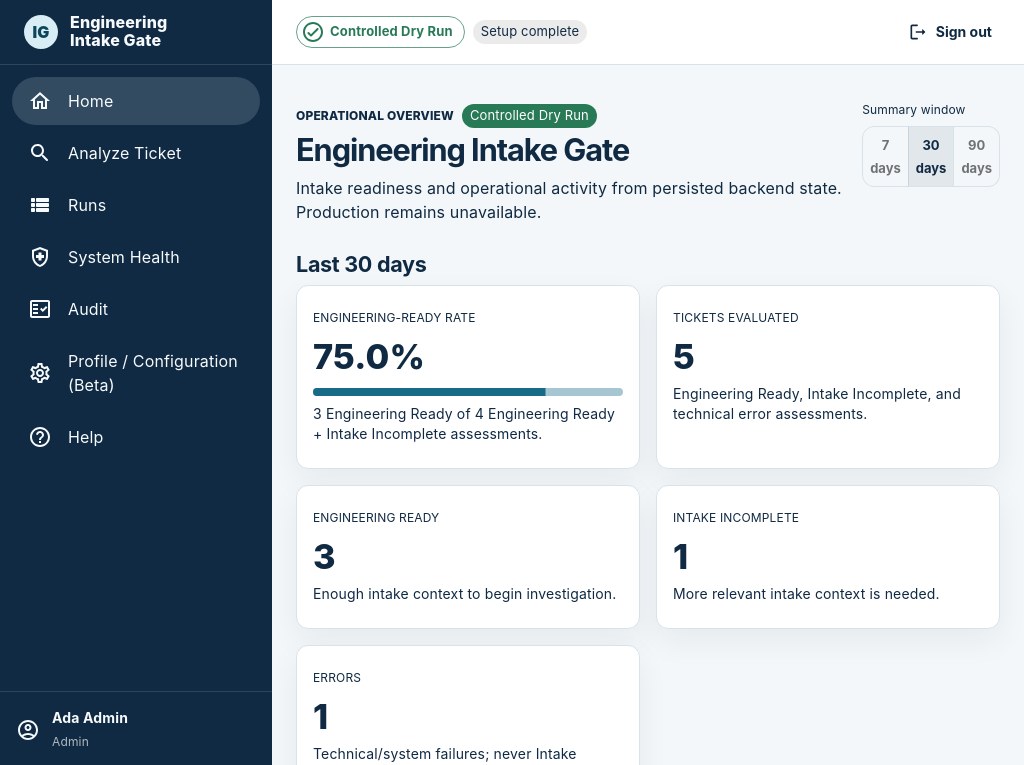
it: HOME-UI-002 switches only among the 7, 30, and 90 day server summaries
The width and height of the screenshot is (1024, 765).
Expected: the heading "Last 30 days" is shown, x1=296 y1=251 x2=426 y2=277
Click the button with aria-label "Last 7 days" at {"x": 885, "y": 157}, box x1=862 y1=126 x2=909 y2=187
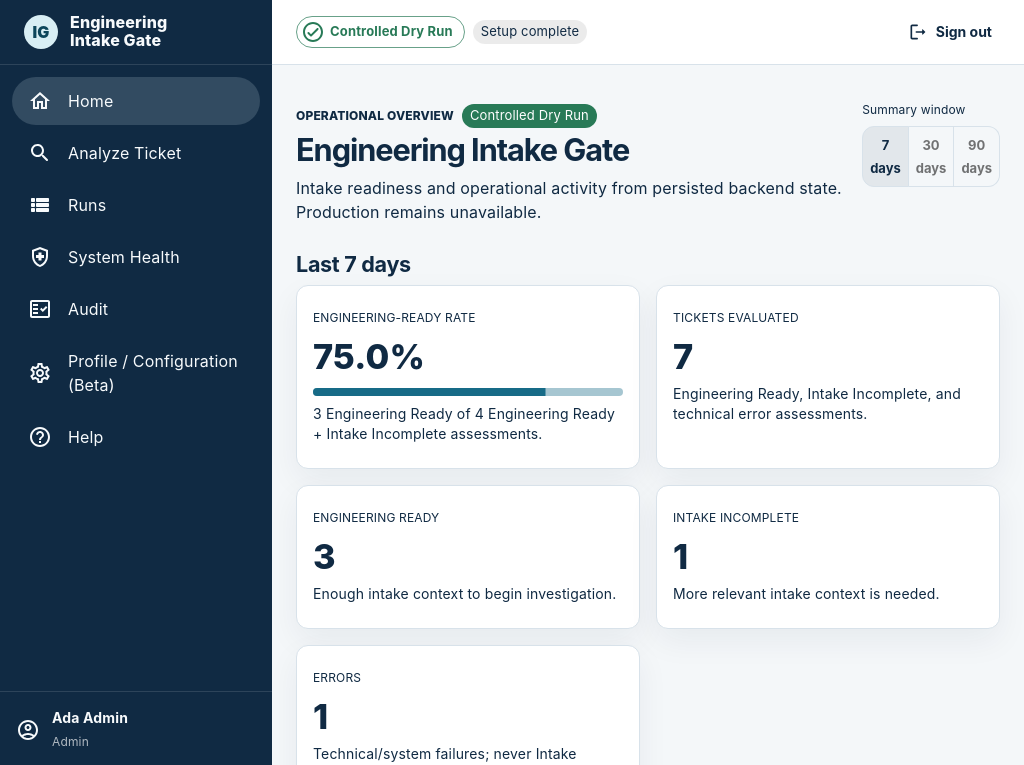
Result: the heading "Last 7 days" is shown at x1=296 y1=251 x2=411 y2=277
Click the button with aria-label "Last 90 days" at {"x": 977, "y": 157}, box x1=953 y1=126 x2=1000 y2=187
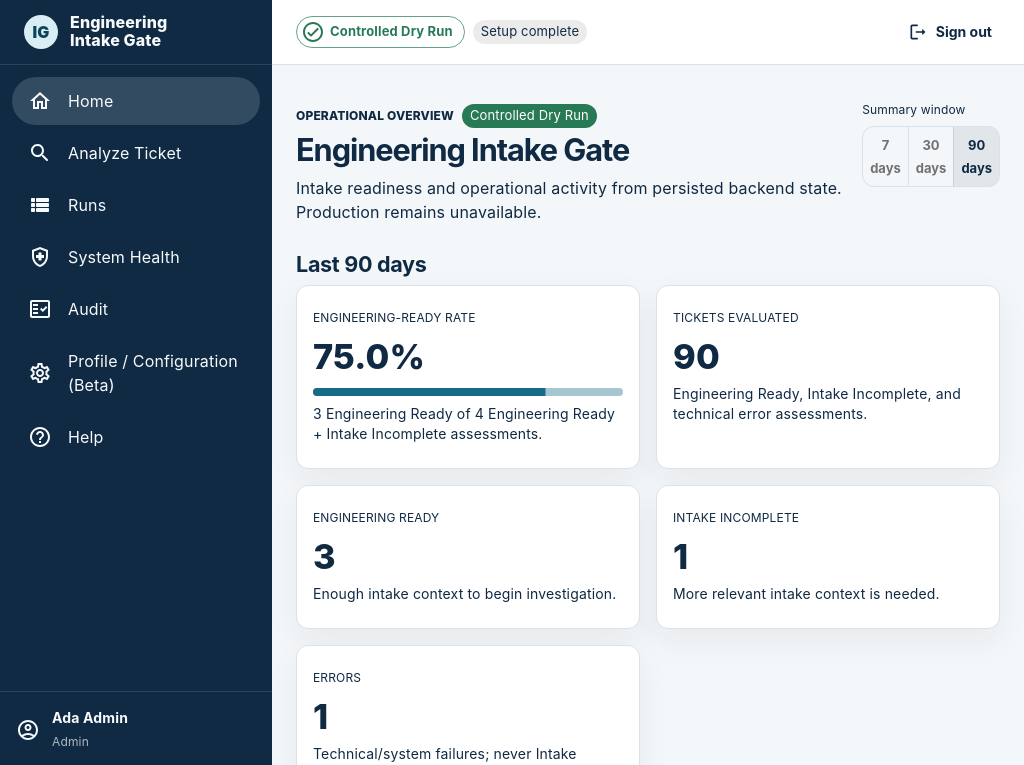
Result: the heading "Last 90 days" is shown at x1=296 y1=251 x2=427 y2=277
